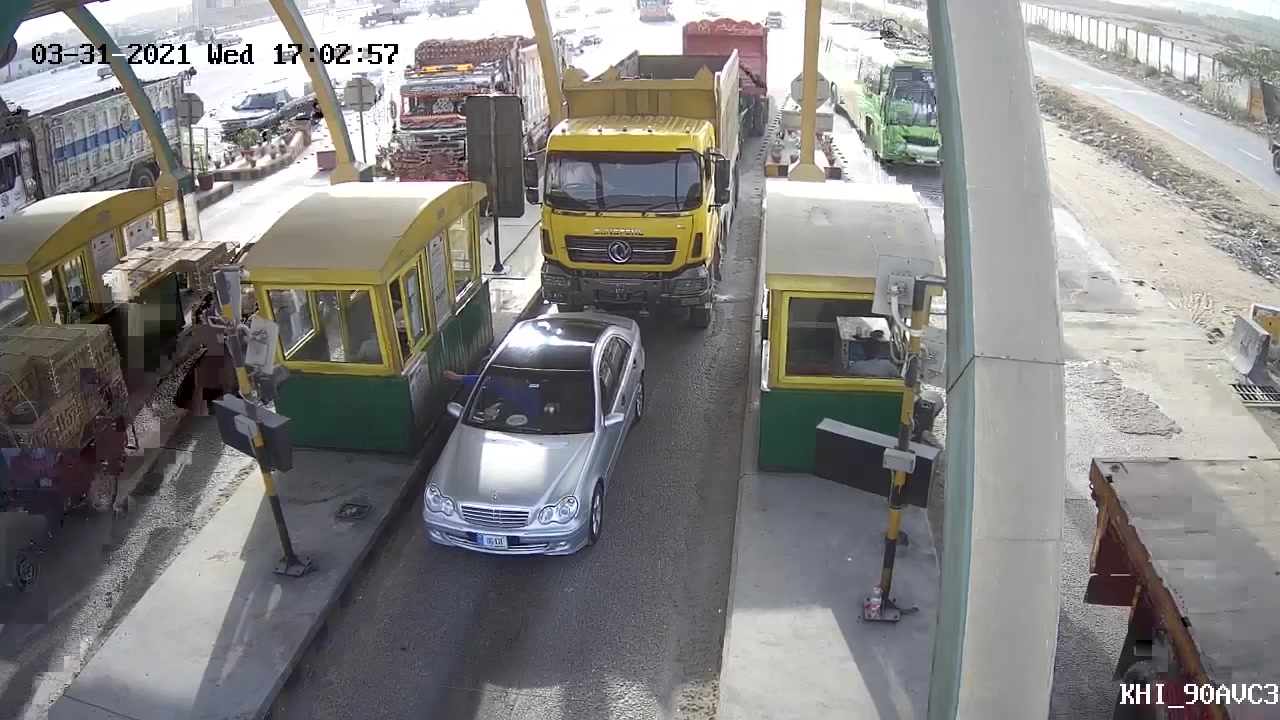F1: (407, 307, 653, 595)
F5: (523, 44, 745, 334)
